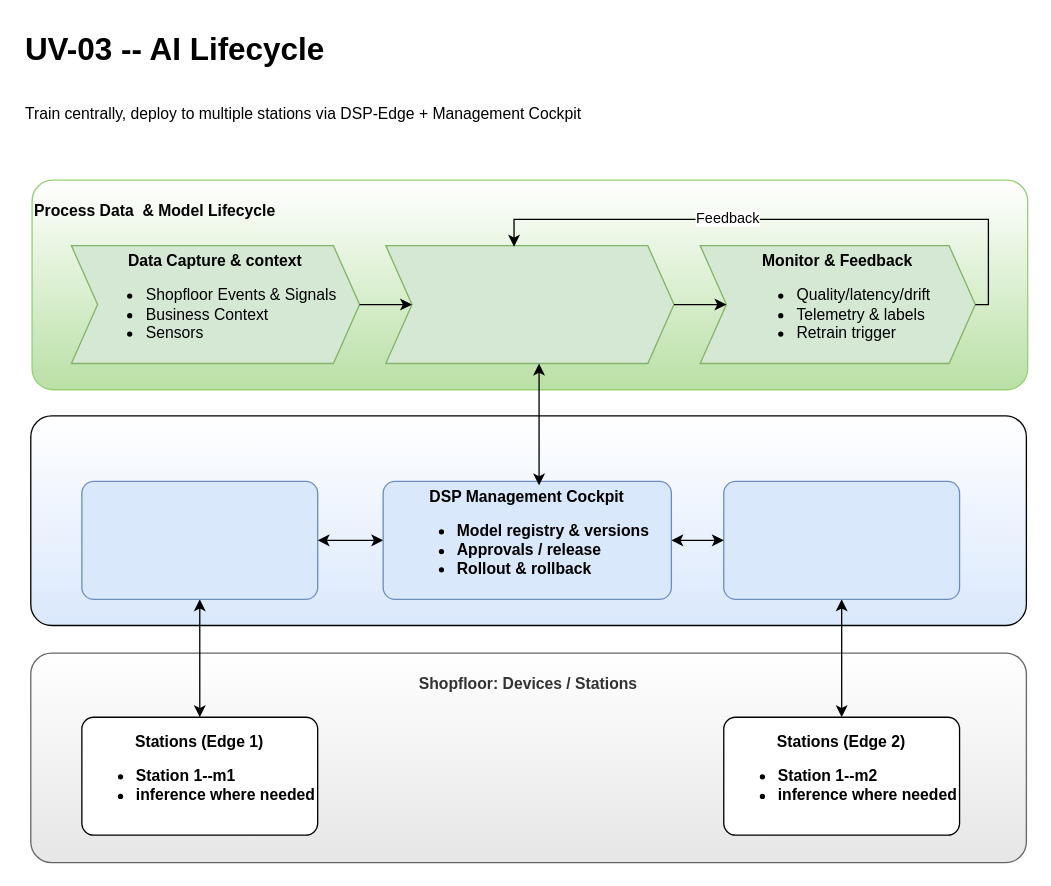
The diagram is 1051 pixels wide and 886 high, and some of its shapes have lost their labels. Each missing label, with the box of its shape:
DSP Context Model & Mediation: (29, 415, 1026, 626)
DSP-Edge 1 Model runtime Local decisions Station interfaces: (81, 480, 318, 599)
DSP-Edge 2 Model runtime Local decisions Station interfaces: (722, 480, 960, 599)
Train & validate (cloud) Training/Validation Model evaluation Packaging: (384, 244, 674, 364)
